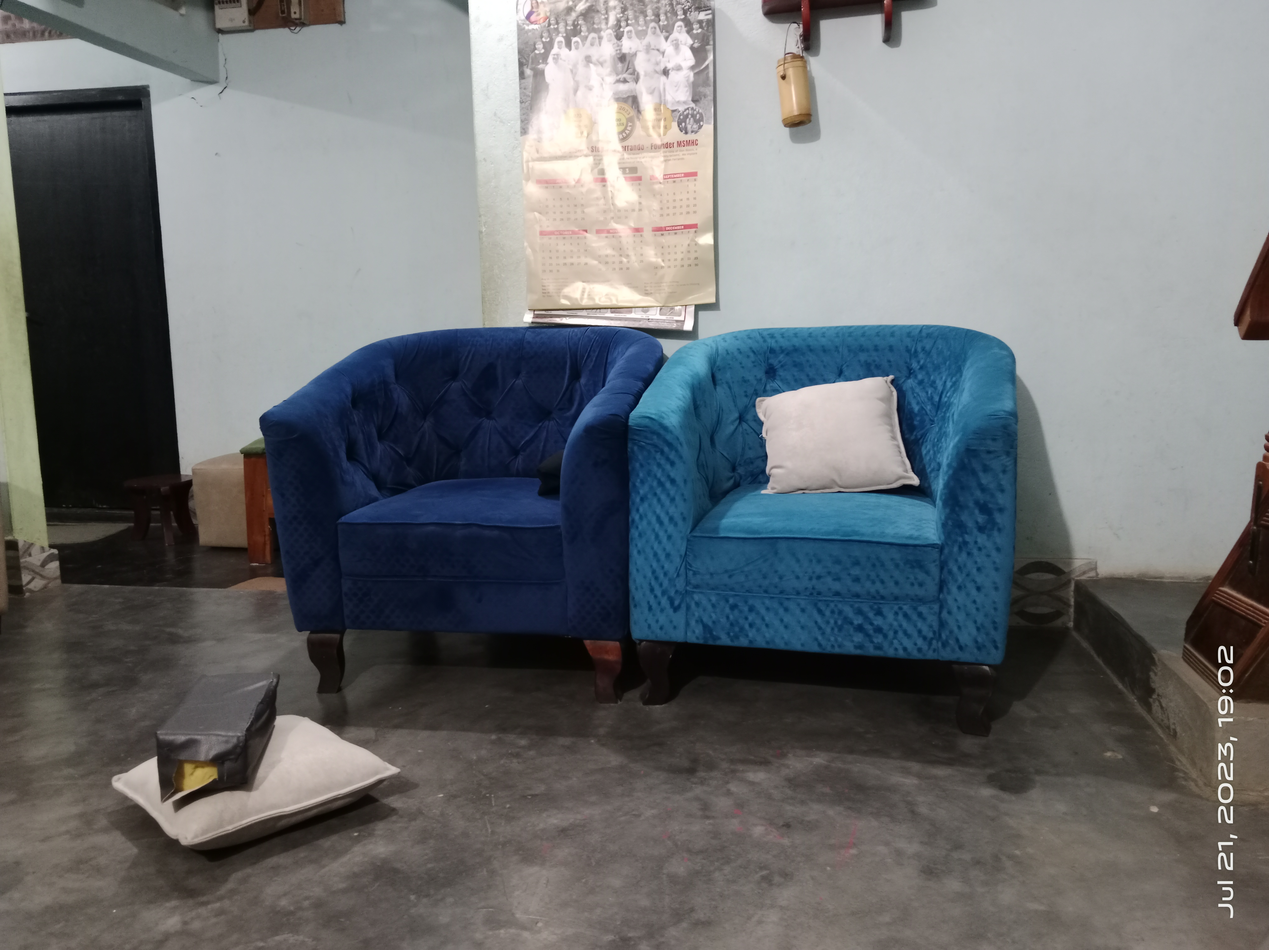sofa: (629, 324, 1019, 738), (258, 327, 668, 705)
